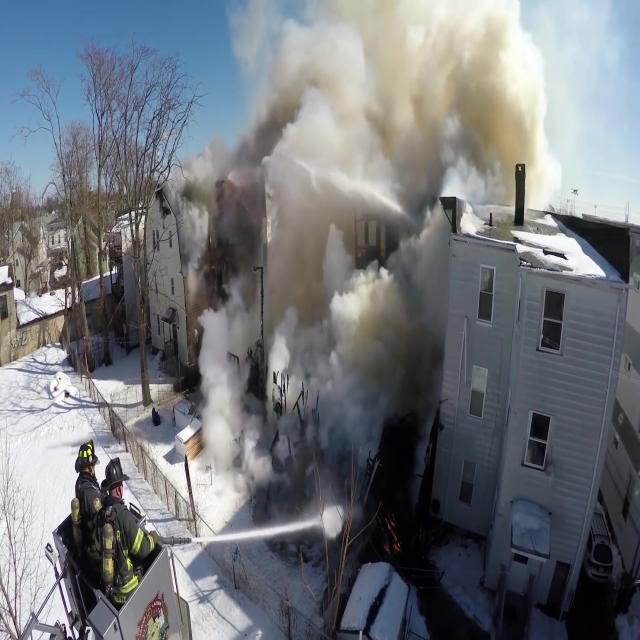Smoke: (268, 21, 532, 215), (224, 228, 398, 428)
